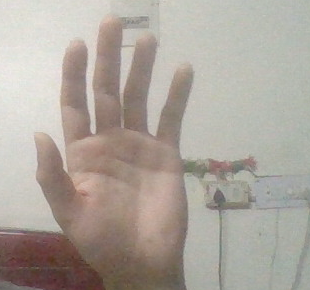move: (29, 12, 195, 283)
